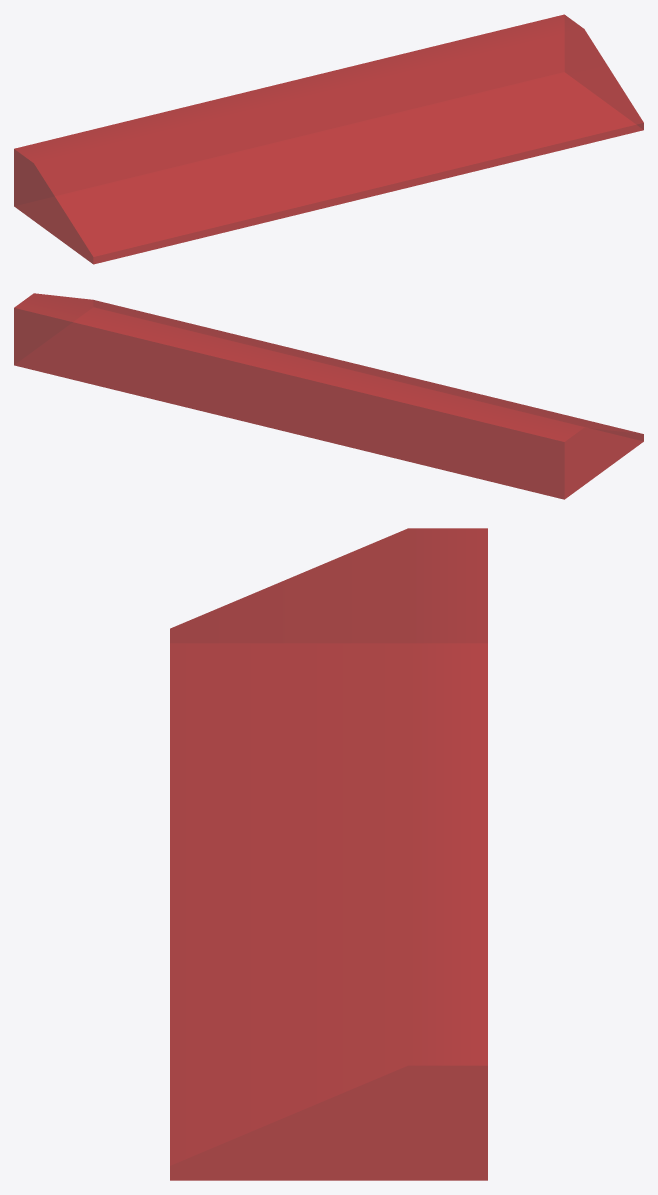
File: SM_Env_Dwarf_Stairs_Small_01_Collision.fbx
3 renders of one model, top to bottom at view 1: azimuth 30°, elevation 25°; view 2: azimuth 150°, elevation 25°; view 3: azimuth 270°, elevation 25°, orthographic. The views are drawn at different scales.
Visible parts, largest first — view 1: SM_Env_Dwarf_Stairs_Small_01_Collision; view 2: SM_Env_Dwarf_Stairs_Small_01_Collision; view 3: SM_Env_Dwarf_Stairs_Small_01_Collision.
Part boxes in pixels (left/top/right/bottom): SM_Env_Dwarf_Stairs_Small_01_Collision: left=14, top=14, right=643, bottom=264; SM_Env_Dwarf_Stairs_Small_01_Collision: left=14, top=293, right=643, bottom=499; SM_Env_Dwarf_Stairs_Small_01_Collision: left=170, top=528, right=487, bottom=1180.
Size of the model in its own units: 500 by 50 by 125.
